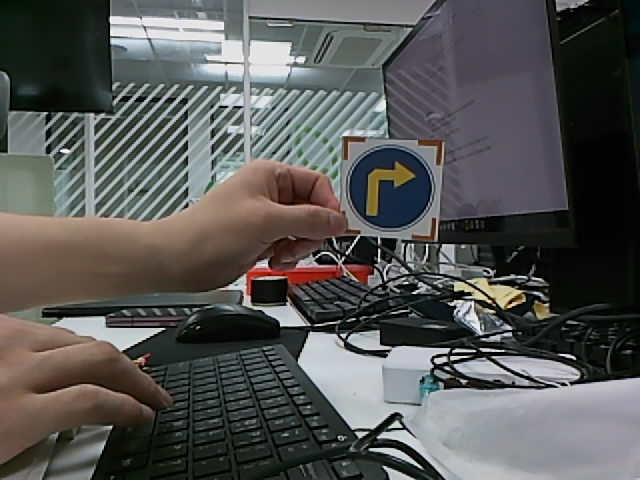right: (346, 145, 436, 231)
